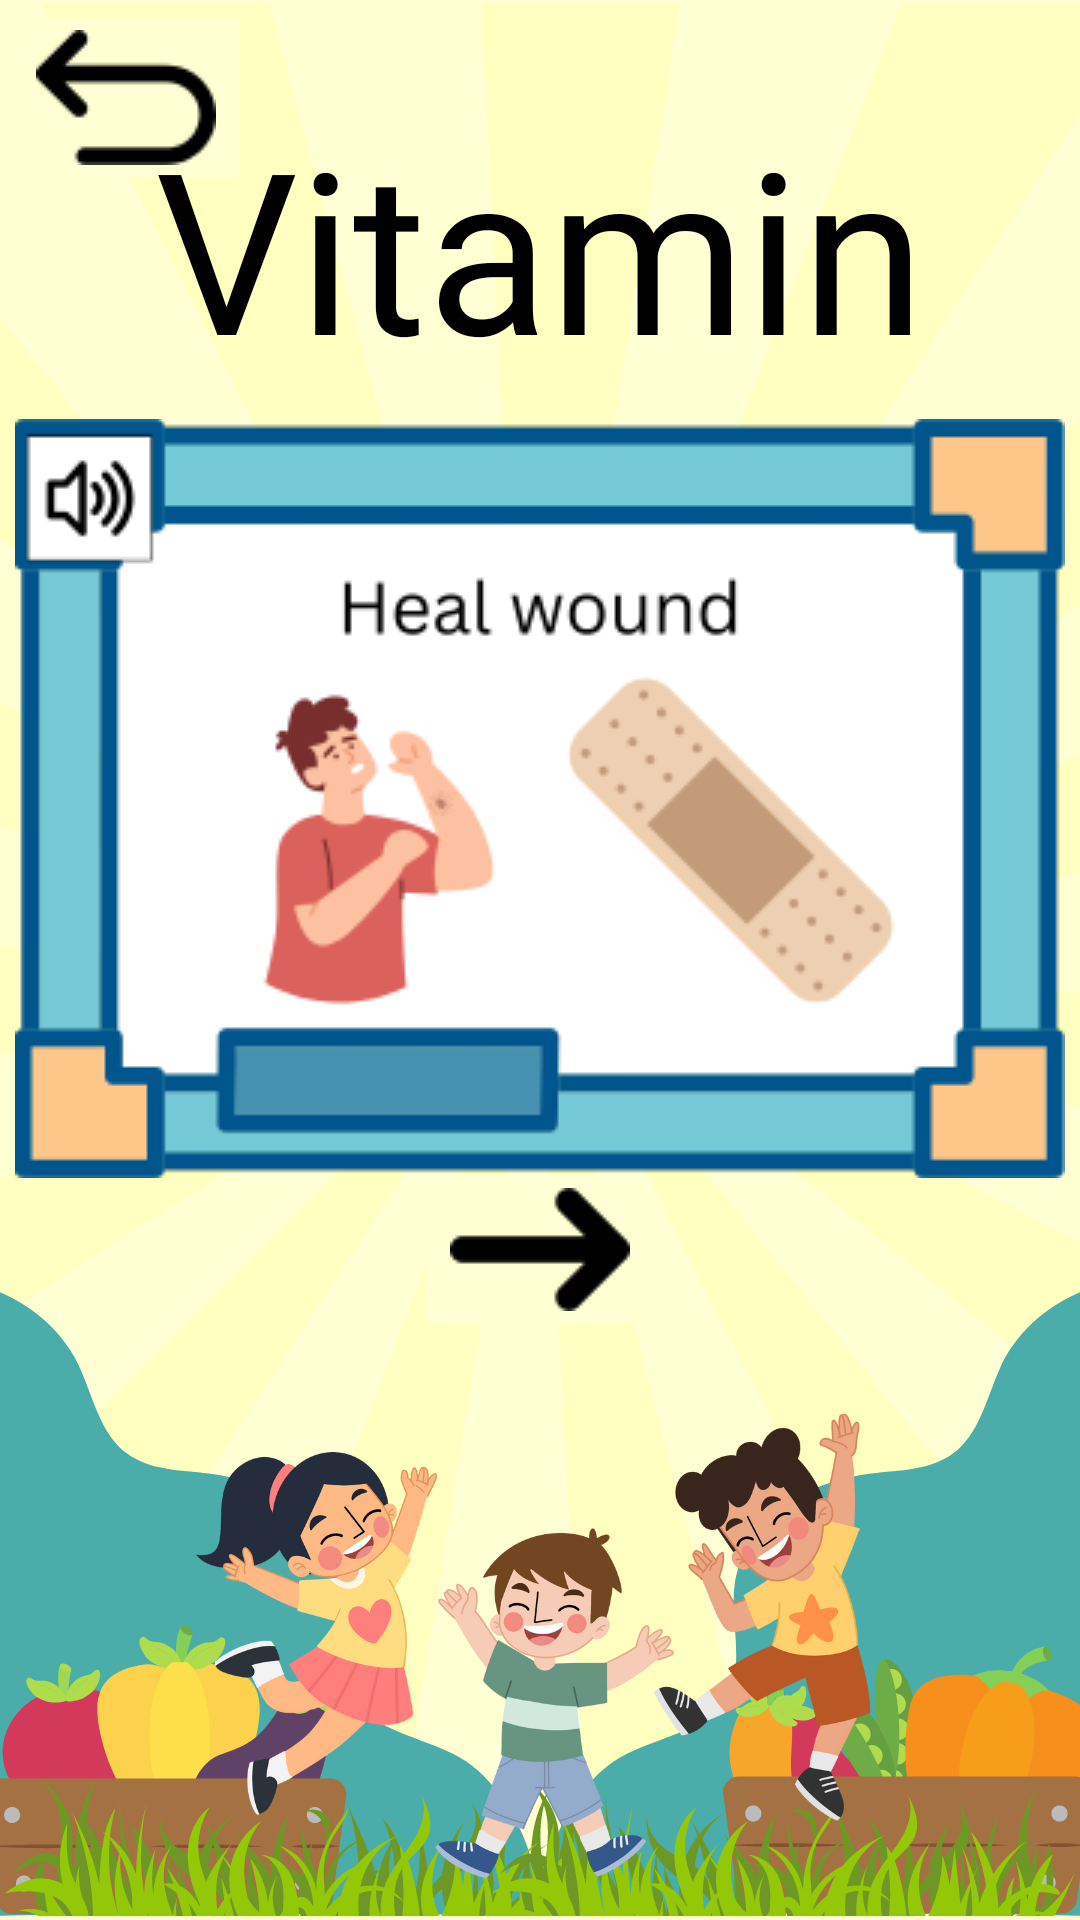

Icon click points for this 1080px×1920px phone screenshot, format [x,y]:
Back: [126,97]
Next button: [540,1249]
